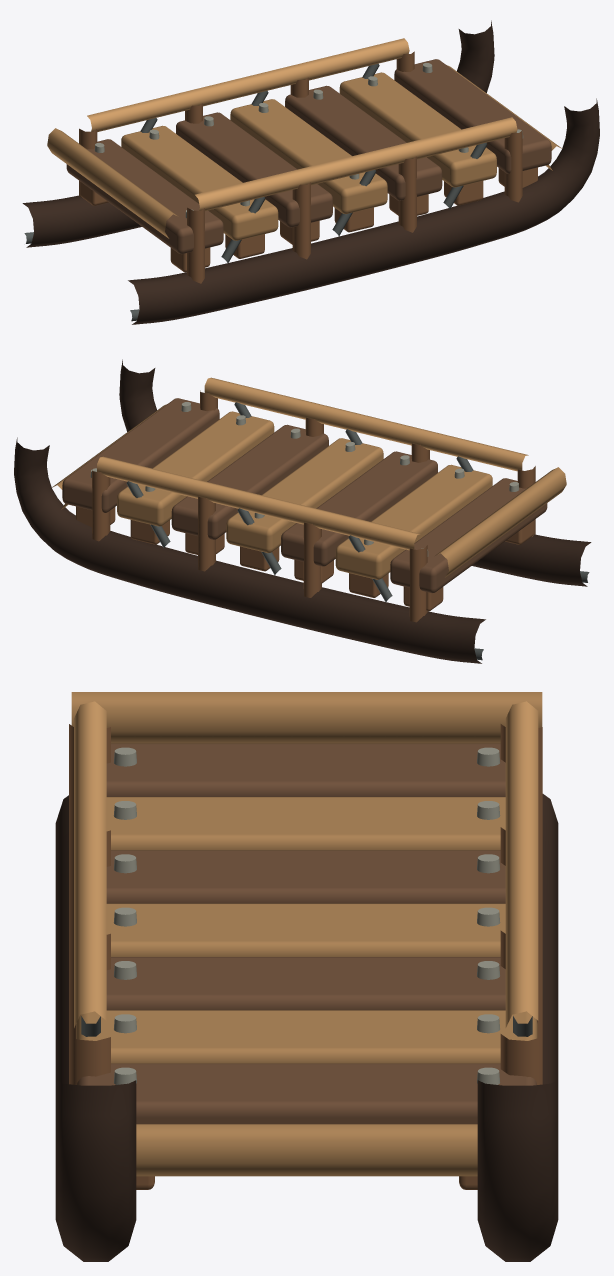
File: extra_cargo_sled.glb
3 renders of one model, top to bottom at view 1: azimuth 30°, elevation 25°; view 2: azimuth 150°, elevation 25°; view 3: azimuth 270°, elevation 25°, orthographic. The views are drawn at different scales.
Parts seen in each view (by area): view 1: wood, metal; view 2: wood, metal; view 3: wood, metal.
Part boxes in pixels (x1,y1,x2,y2): wood: (22,20,599,324); metal: (24,38,523,321); wood: (14,359,591,663); metal: (90,377,589,660); wood: (55,692,558,1261); metal: (74,701,538,1084).
Bounding box in the file's own units: 2.8 × 0.7 × 1.3.
